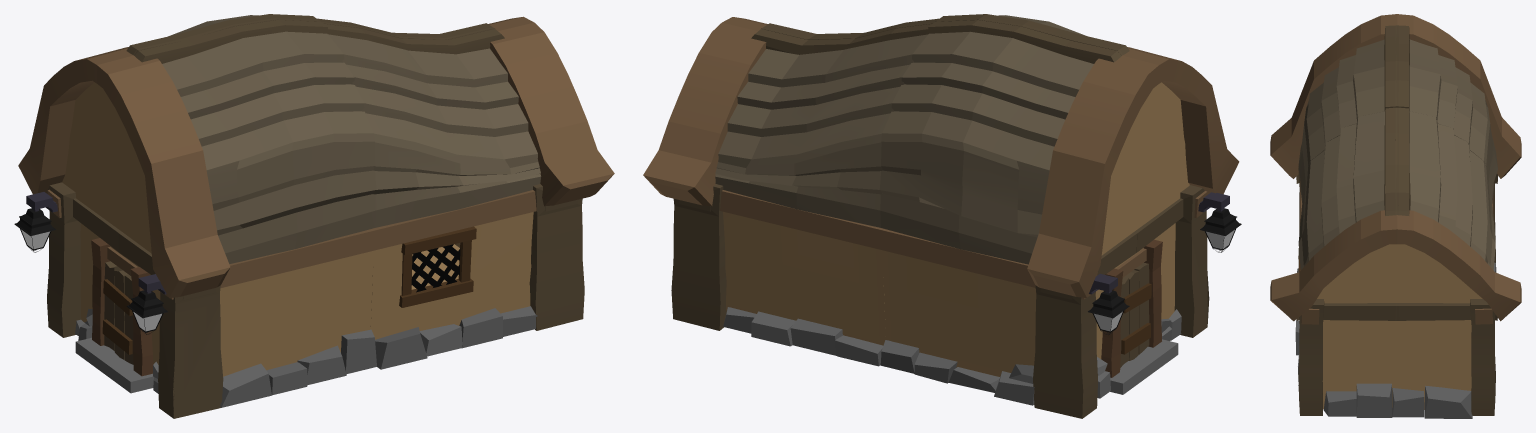
Rendered from casa6.fbx.
3 views of the same model, side by side, from view 1: azimuth 30°, elevation 25°; view 2: azimuth 150°, elevation 25°; view 3: azimuth 270°, elevation 25° (orthographic). The views are drawn at different scales.
Visible parts, largest first — view 1: casa.003, pedras.003, casa.035, arco de entrada.002, janela, porta.003, negocinho feio.033, negocinho feio.038; view 2: casa.003, pedras.003, casa.035, arco de entrada.002, porta.003, negocinho feio.038, negocinho feio.033; view 3: casa.003, casa.036, pedras.003.
Boxes of the visible parts, x1=… form: casa.003: x1=18, y1=14, x2=614, y2=418; pedras.003: x1=75, y1=306, x2=537, y2=407; casa.035: x1=62, y1=82, x2=151, y2=253; arco de entrada.002: x1=75, y1=238, x2=153, y2=393; janela: x1=399, y1=226, x2=476, y2=307; porta.003: x1=102, y1=261, x2=133, y2=364; negocinho feio.033: x1=126, y1=290, x2=167, y2=318; negocinho feio.038: x1=14, y1=208, x2=55, y2=236; casa.003: x1=643, y1=14, x2=1239, y2=418; pedras.003: x1=723, y1=307, x2=1181, y2=405; casa.035: x1=1101, y1=82, x2=1189, y2=255; arco de entrada.002: x1=1101, y1=239, x2=1178, y2=394; porta.003: x1=1120, y1=263, x2=1151, y2=367; negocinho feio.038: x1=1088, y1=290, x2=1129, y2=318; negocinho feio.033: x1=1200, y1=208, x2=1241, y2=236; casa.003: x1=1270, y1=14, x2=1521, y2=415; casa.036: x1=1317, y1=244, x2=1482, y2=303; pedras.003: x1=1295, y1=262, x2=1496, y2=418.
Bounding box in the file's own units: 6437 × 4303 × 3954.
